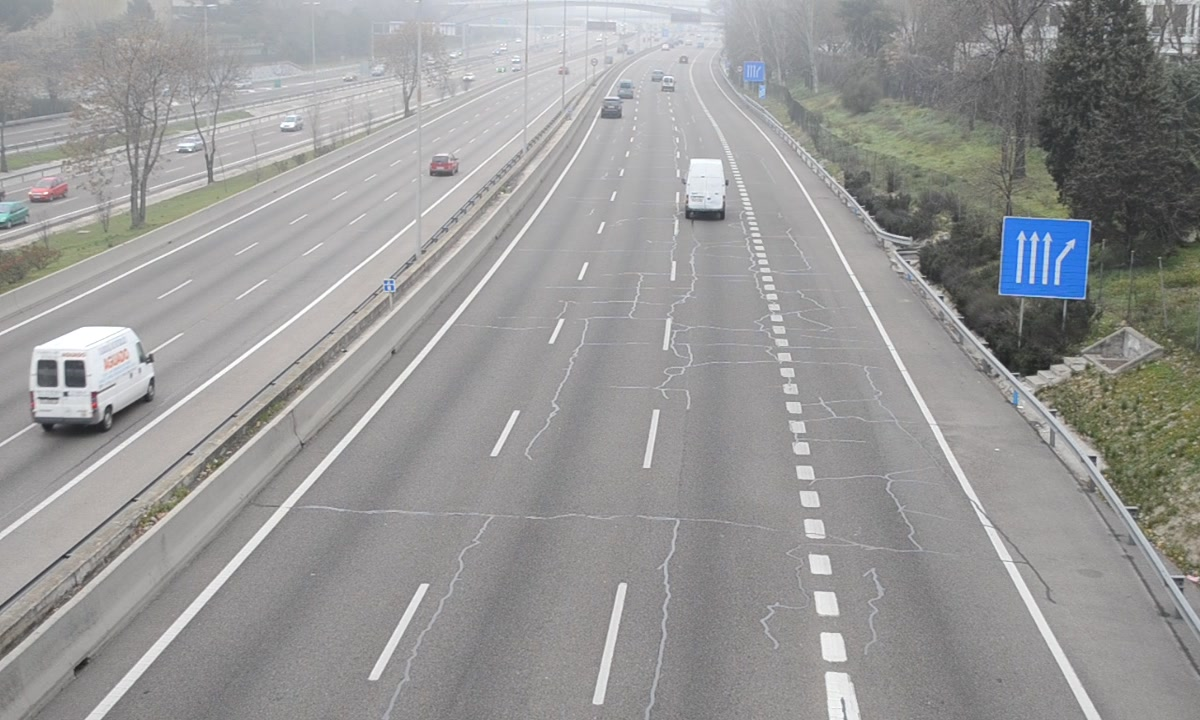car: (601, 96, 622, 120)
van: (682, 157, 728, 218)
